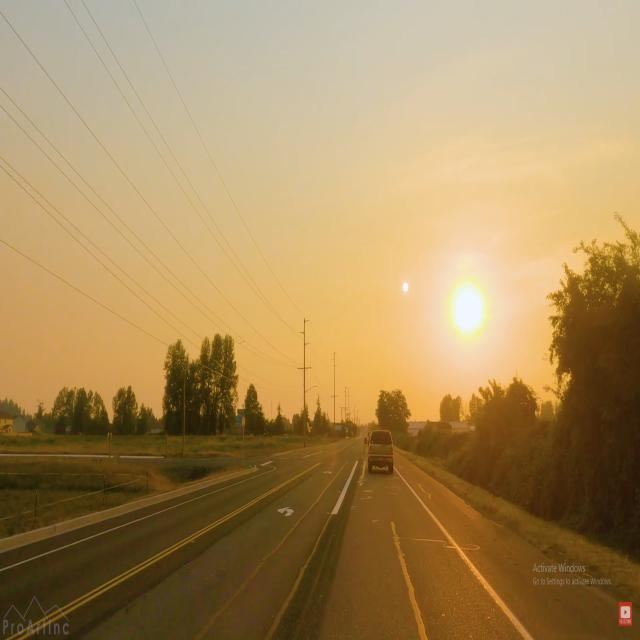sun: (444, 270, 497, 350)
